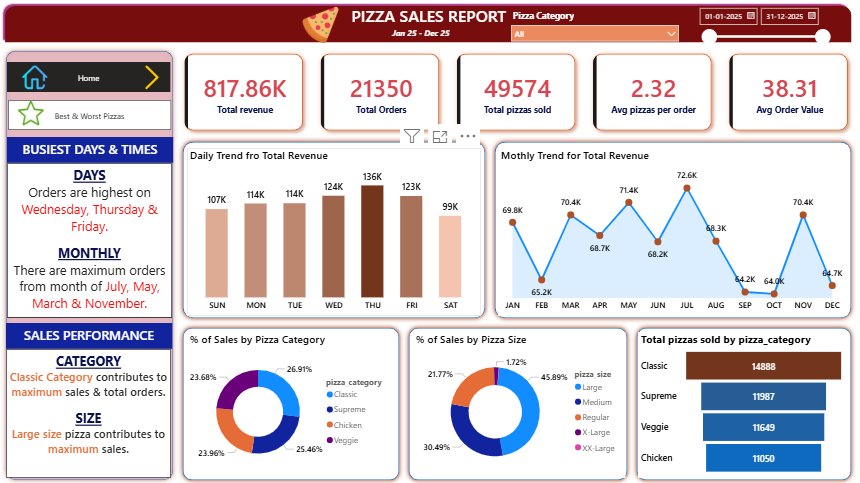

The dashboard page shown, as its layout file describes it:
{"tool":"powerbi","page":{"name":"Home","canvas":[1500,820],"ordinal":0},"visuals":[{"type":"cardVisual","fields":{"Data":["pizza_sales.Total revenue","pizza_sales.Total Orders","pizza_sales.Total pizzas sold","pizza_sales.Avg pizzas per order","pizza_sales.Avg Order Value"]},"box":[312.9,71.4,1164.3,187.1],"z":0},{"type":"shape","box":[37.1,15.7,1424.3,74.3],"z":1000},{"type":"textbox","box":[602.9,15.7,292.9,74.3],"z":2000},{"type":"textbox","box":[680,52.9,112.9,37.1],"z":3000},{"type":"image","box":[537.1,21.4,65.7,62.9],"z":4000},{"type":"shape","box":[331.4,240,520,310],"z":5000},{"type":"shape","box":[851.4,240,610,310],"z":6000},{"type":"columnChart","title":"Daily Trend fro Total Revenue","fields":{"Category":["pizza_sales.Order day"],"Y":["pizza_sales.Total revenue"]},"box":[347.1,258.6,490,280],"z":7000},{"type":"areaChart","title":"Mothly Trend for Total Revenue","fields":{"Category":["pizza_sales.Order Month"],"Y":["pizza_sales.Total revenue"]},"box":[865.7,258.6,581.4,280],"z":8000},{"type":"shape","box":[331.7,550,376.7,270],"z":9000},{"type":"shape","box":[708.3,550,380,270],"z":10000},{"type":"shape","box":[1088.3,550,373.3,270],"z":11000},{"type":"donutChart","title":"% of Sales by Pizza Category","fields":{"Category":["pizza_sales.pizza_category"],"Y":["pizza_sales.Total revenue"]},"box":[347.1,564.3,345.7,242.9],"z":11001},{"type":"donutChart","title":"% of Sales by Pizza Size","fields":{"Category":["pizza_sales.pizza_size"],"Y":["pizza_sales.Total revenue"]},"box":[722.9,564.3,354.3,242.9],"z":11002},{"type":"funnel","fields":{"Category":["pizza_sales.pizza_category"],"Y":["pizza_sales.Total pizzas sold"]},"box":[1098.6,564.3,348.6,242.9],"z":11003},{"type":"shape","box":[36.7,88.3,295,731.7],"z":11004},{"type":"textbox","box":[46.7,240,276.7,43.3],"z":11005},{"type":"textbox","box":[46.7,283.3,275,258.3],"z":11006},{"type":"textbox","box":[45,550,276.7,43.3],"z":11007},{"type":"textbox","box":[45,593.3,275,215],"z":11008},{"type":"slicer","fields":{"Values":["pizza_sales.pizza_category"]},"box":[877.1,21.4,300,62.9],"z":11009},{"type":"slicer","fields":{"Values":["pizza_sales.order_date"]},"box":[1188.6,15.7,238.6,90],"z":11010},{"type":"pageNavigator","box":[47.1,115.7,272.9,50],"z":11011},{"type":"pageNavigator","box":[48.6,178.6,272.9,50],"z":11012},{"type":"image","box":[262.9,120,50,41.4],"z":11013},{"type":"image","box":[65.7,120,55.7,41.4],"z":11014},{"type":"image","box":[65.7,171.4,42.9,57.1],"z":11015}]}

Visuals, with their boxes in screenshot pixels (x1, y1, x2, y2), scaled from the page's 1500x820 canvas onto the 860x483 screenshot:
cardVisual - pizza_sales.Total revenue x pizza_sales.Total Orders: <region>179, 42, 847, 152</region>
shape: <region>21, 9, 838, 53</region>
textbox: <region>346, 9, 514, 53</region>
textbox: <region>390, 31, 455, 53</region>
image: <region>308, 13, 346, 50</region>
shape: <region>190, 141, 488, 324</region>
shape: <region>488, 141, 838, 324</region>
"Daily Trend fro Total Revenue" columnChart: <region>199, 152, 480, 317</region>
"Mothly Trend for Total Revenue" areaChart: <region>496, 152, 830, 317</region>
shape: <region>190, 324, 406, 482</region>
shape: <region>406, 324, 624, 482</region>
shape: <region>624, 324, 838, 482</region>
"% of Sales by Pizza Category" donutChart: <region>199, 332, 397, 475</region>
"% of Sales by Pizza Size" donutChart: <region>414, 332, 618, 475</region>
funnel - pizza_sales.pizza_category x pizza_sales.Total pizzas sold: <region>630, 332, 830, 475</region>
shape: <region>21, 52, 190, 482</region>
textbox: <region>27, 141, 185, 167</region>
textbox: <region>27, 167, 184, 319</region>
textbox: <region>26, 324, 184, 349</region>
textbox: <region>26, 349, 183, 476</region>
slicer - pizza_sales.pizza_category: <region>503, 13, 675, 50</region>
slicer - pizza_sales.order_date: <region>681, 9, 818, 62</region>
pageNavigator: <region>27, 68, 183, 98</region>
pageNavigator: <region>28, 105, 184, 135</region>
image: <region>151, 71, 179, 95</region>
image: <region>38, 71, 70, 95</region>
image: <region>38, 101, 62, 135</region>
